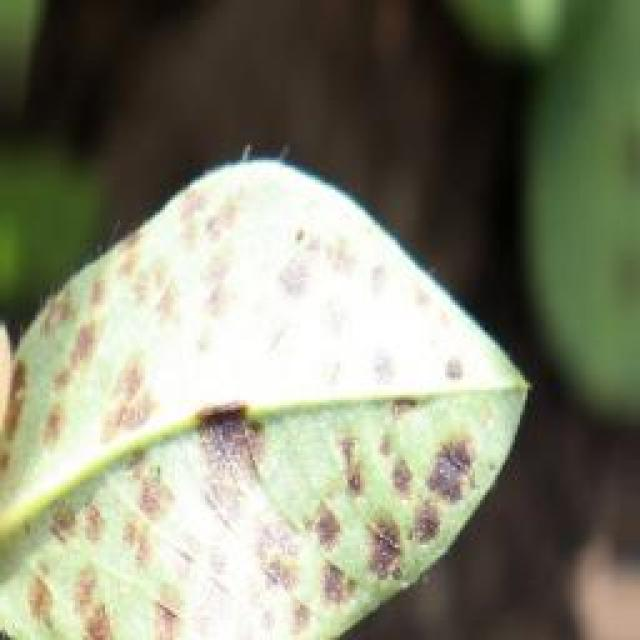Whitefly: (0, 183, 524, 640)
